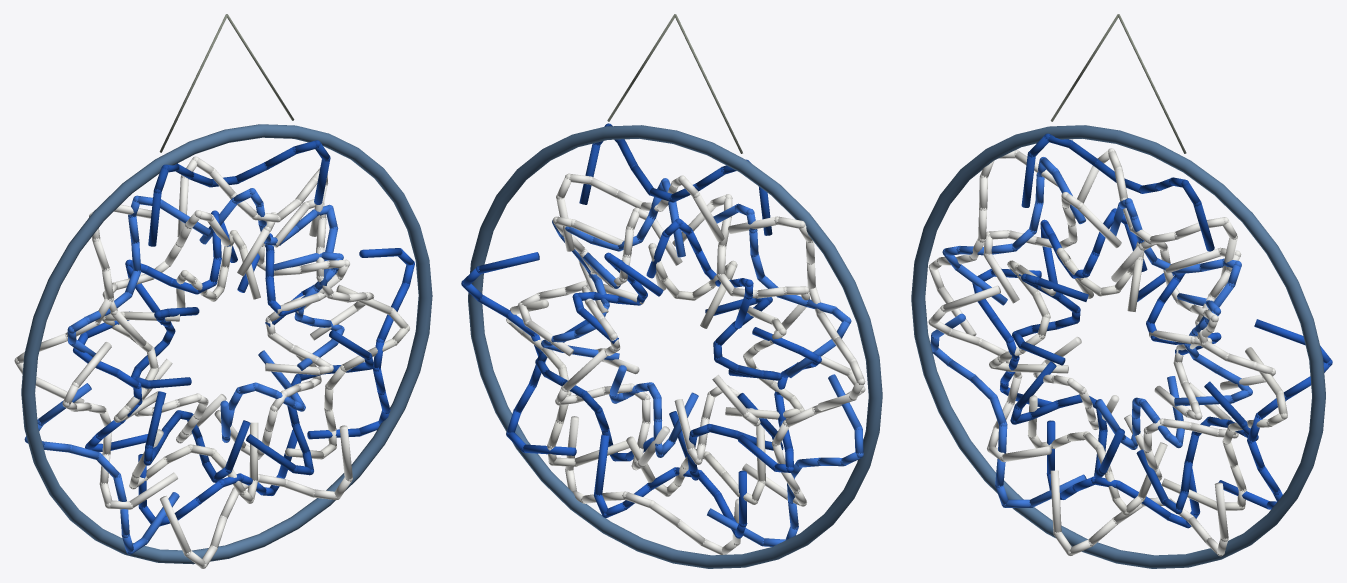
File: hy3d-mov-019.glb
3 views of the same model, side by side, from view 1: azimuth 30°, elevation 25°; view 2: azimuth 150°, elevation 25°; view 3: azimuth 330°, elevation 25° (orthographic).
Visible parts, largest first — view 1: world; view 2: world; view 3: world.
Part boxes in pixels (x1,y1,x2,y2): world: [14, 14, 432, 568]; world: [461, 14, 882, 568]; world: [911, 14, 1332, 568].
Bounding box in the file's own units: 1.48 × 1.88 × 0.1777.
Materials: 1 (1 with a texture image).
